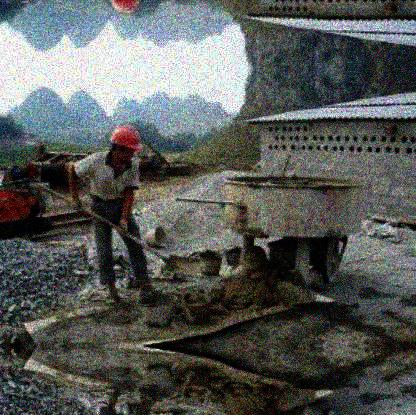helmet: (105, 124, 141, 167)
